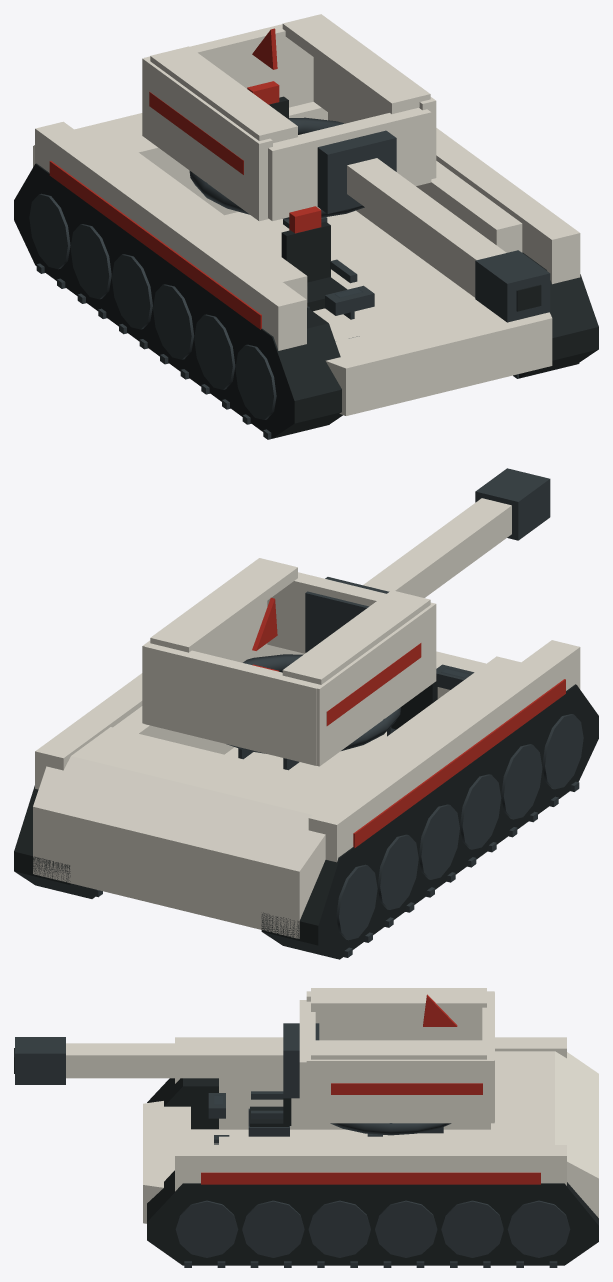
The picture shows the model from 3 angles, top to bottom: view 1: azimuth 30°, elevation 25°; view 2: azimuth 150°, elevation 25°; view 3: azimuth 270°, elevation 25°; orthographic projection. The views are drawn at different scales.
Visible parts, largest first — view 1: tank-fleet-armor, turret-fleet-armor, tank-fleet-rubber, tank-fleet-machine, barrel-fleet-armor, barrel-fleet-machine, crew-chair-driver-painted, tank-fleet-red, turret-fleet-red, crew-chair-gunner-painted, barrel-fleet-rubber; view 2: tank-fleet-armor, turret-fleet-armor, tank-fleet-rubber, tank-fleet-machine, barrel-fleet-armor, barrel-fleet-machine, tank-fleet-red, turret-fleet-red, crew-chair-driver-painted; view 3: tank-fleet-armor, turret-fleet-armor, tank-fleet-rubber, tank-fleet-machine, barrel-fleet-armor, tank-fleet-red, barrel-fleet-machine, turret-fleet-red, crew-chair-driver-painted.
Part boxes in pixels (<box>): tank-fleet-armor: <box>33,101,580,415</box>; turret-fleet-armor: <box>142,14,436,221</box>; tank-fleet-rubber: <box>14,163,598,438</box>; tank-fleet-machine: <box>29,117,579,439</box>; barrel-fleet-armor: <box>347,158,506,287</box>; barrel-fleet-machine: <box>317,130,550,322</box>; crew-chair-driver-painted: <box>281,206,374,338</box>; tank-fleet-red: <box>49,161,261,329</box>; turret-fleet-red: <box>149,28,277,174</box>; crew-chair-gunner-painted: <box>247,81,327,228</box>; barrel-fleet-rubber: <box>516,284,541,311</box>; tank-fleet-armor: <box>33,640,580,938</box>; turret-fleet-armor: <box>142,558,436,766</box>; tank-fleet-rubber: <box>14,684,598,959</box>; tank-fleet-machine: <box>96,654,583,957</box>; barrel-fleet-armor: <box>363,498,511,597</box>; barrel-fleet-machine: <box>305,468,550,652</box>; tank-fleet-red: <box>353,679,565,848</box>; turret-fleet-red: <box>252,597,421,725</box>; crew-chair-driver-painted: <box>387,664,474,736</box>; tank-fleet-armor: <box>143,1037,598,1223</box>; turret-fleet-armor: <box>299,988,494,1123</box>; tank-fleet-rubber: <box>147,1078,598,1265</box>; tank-fleet-machine: <box>175,1123,570,1267</box>; barrel-fleet-armor: <box>66,1043,283,1078</box>; tank-fleet-red: <box>201,1172,540,1184</box>; barrel-fleet-machine: <box>15,1023,319,1098</box>; turret-fleet-red: <box>331,994,482,1094</box>; crew-chair-driver-painted: <box>208,1091,291,1144</box>.
Bounding box in the file's own units: 21.11 × 17.02 × 42.63.
